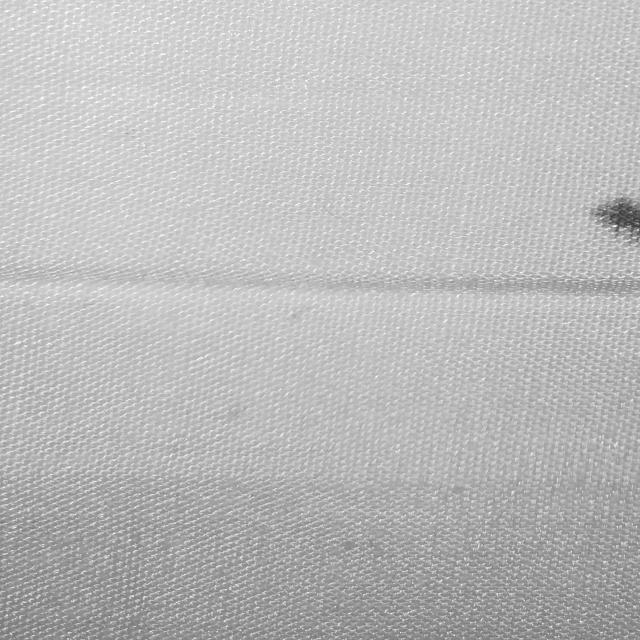Stain: (590, 198, 640, 245)
